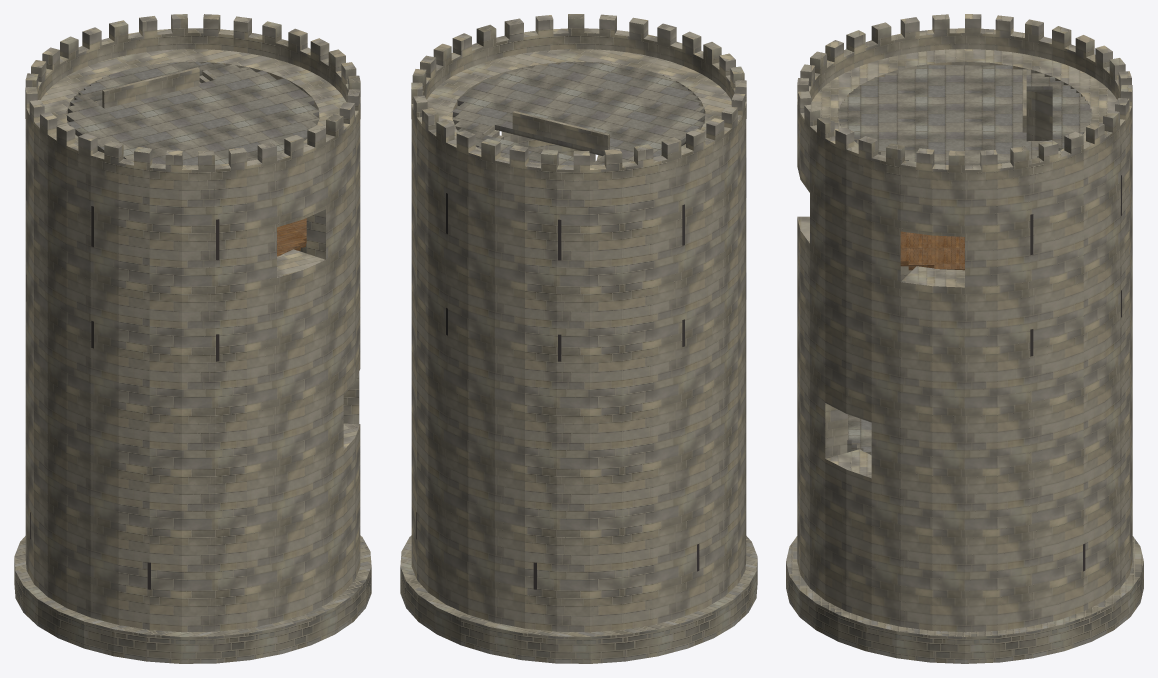
Rendered from fort-tower-round.fort-v1.lod0.glb.
The picture shows the model from 3 angles, left to right: view 1: azimuth 30°, elevation 25°; view 2: azimuth 150°, elevation 25°; view 3: azimuth 270°, elevation 25°; orthographic projection.
Visible parts, largest first — view 1: fort-tower-round; view 2: fort-tower-round; view 3: fort-tower-round.
Boxes of the visible parts, left/top/right/bottom form: fort-tower-round: left=14, top=14, right=371, bottom=663; fort-tower-round: left=400, top=14, right=757, bottom=663; fort-tower-round: left=786, top=14, right=1143, bottom=663.
Size of the model in its own units: 19.2 by 29.8 by 19.2.
5 materials, 4 textured.
